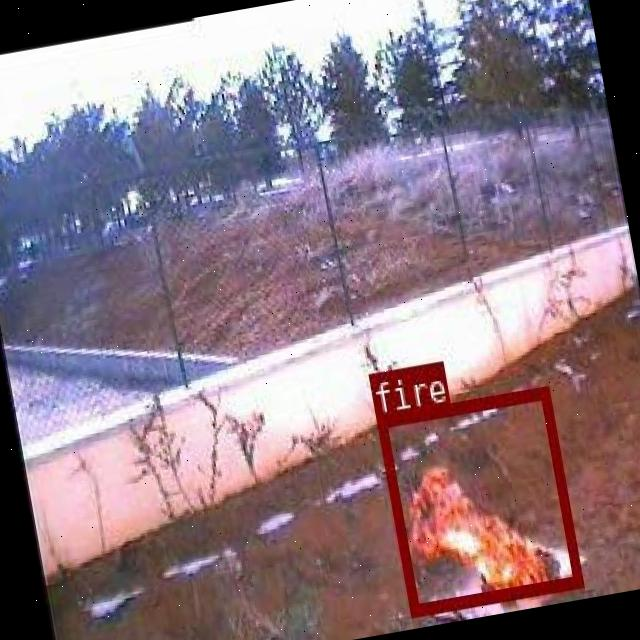fire: (374, 385, 582, 614)
